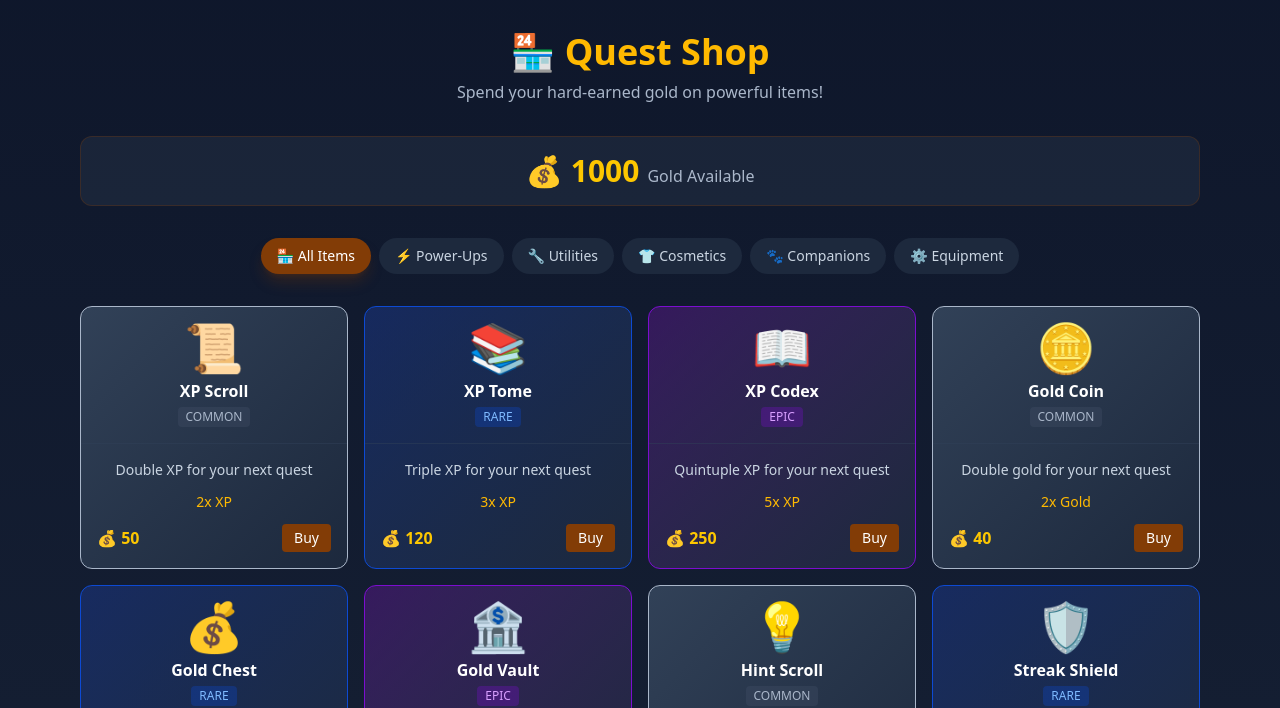
Test case: StorePage › charges for equipment, equips it and marks the card as owned
Step 1. Click the button "⚙️ Equipment" → (957, 256), box [894,238,1019,274]
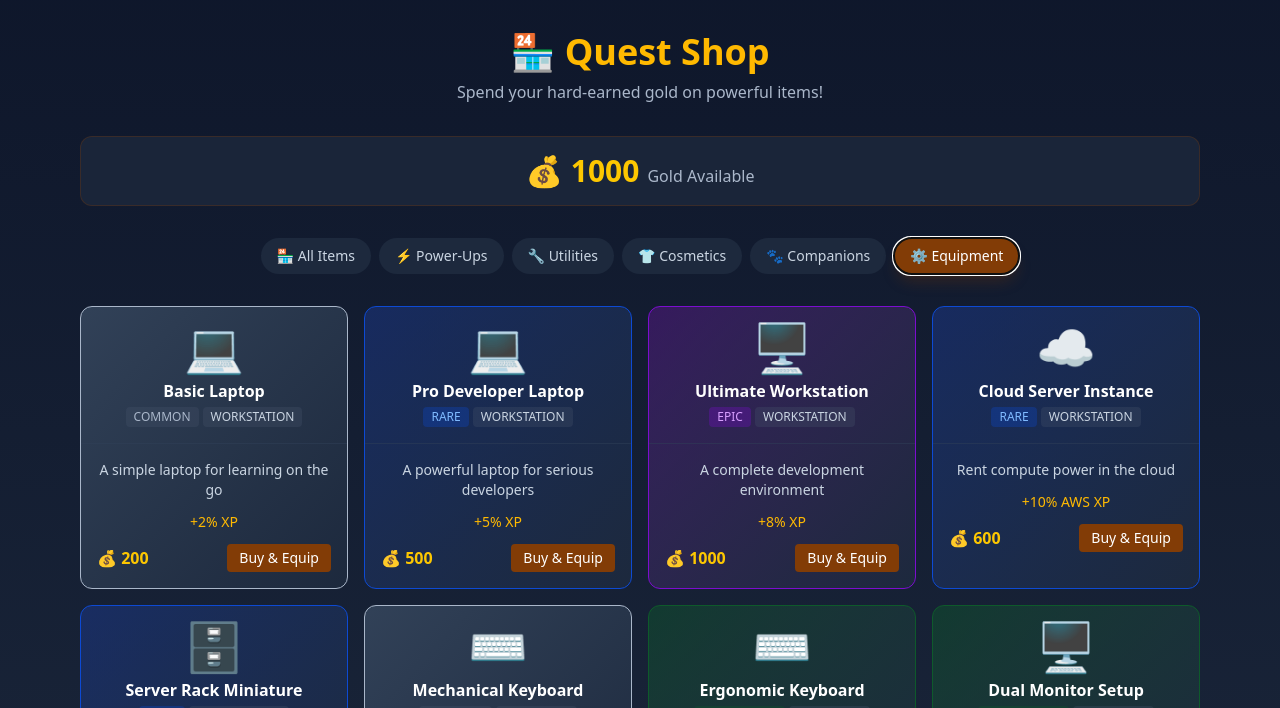
Expected: the text "+2% XP" is shown, [190,512,238,531]
Step 2. Click the button "Buy & Equip" below "+2% XP" → (279, 558), box [227,544,331,572]
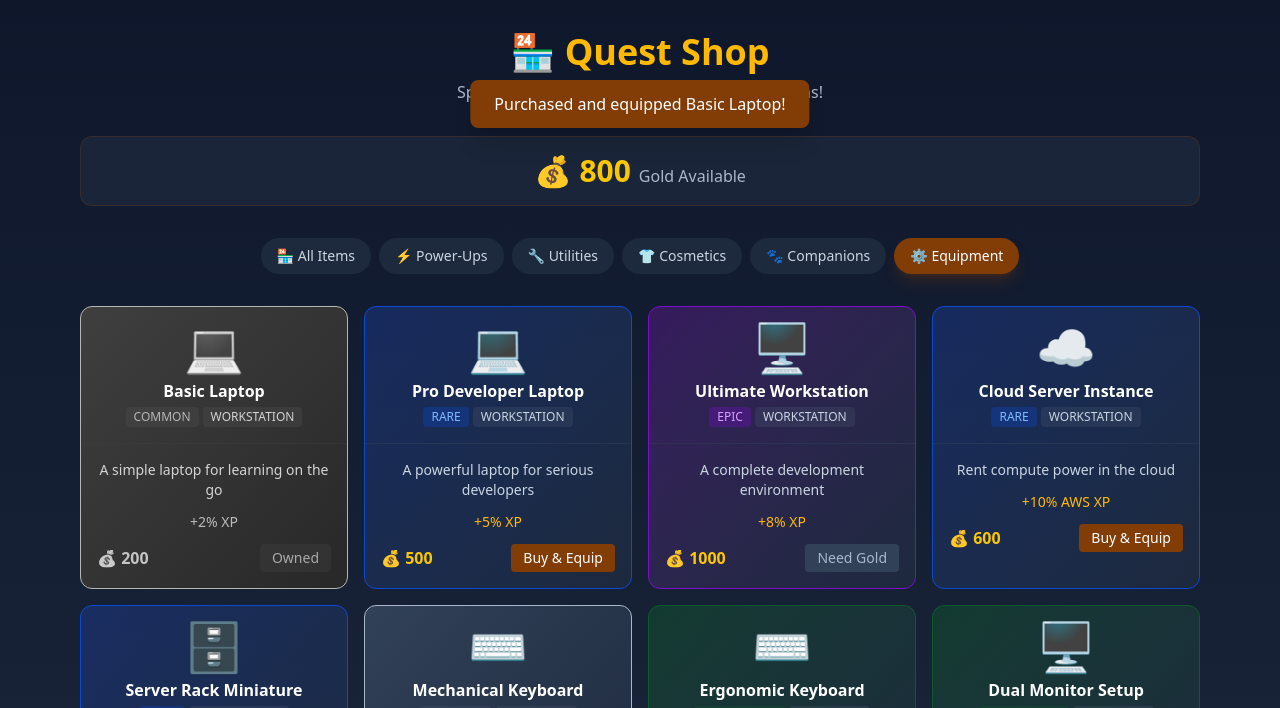
Now the text "Owned" is shown, box [260,544,331,572]
